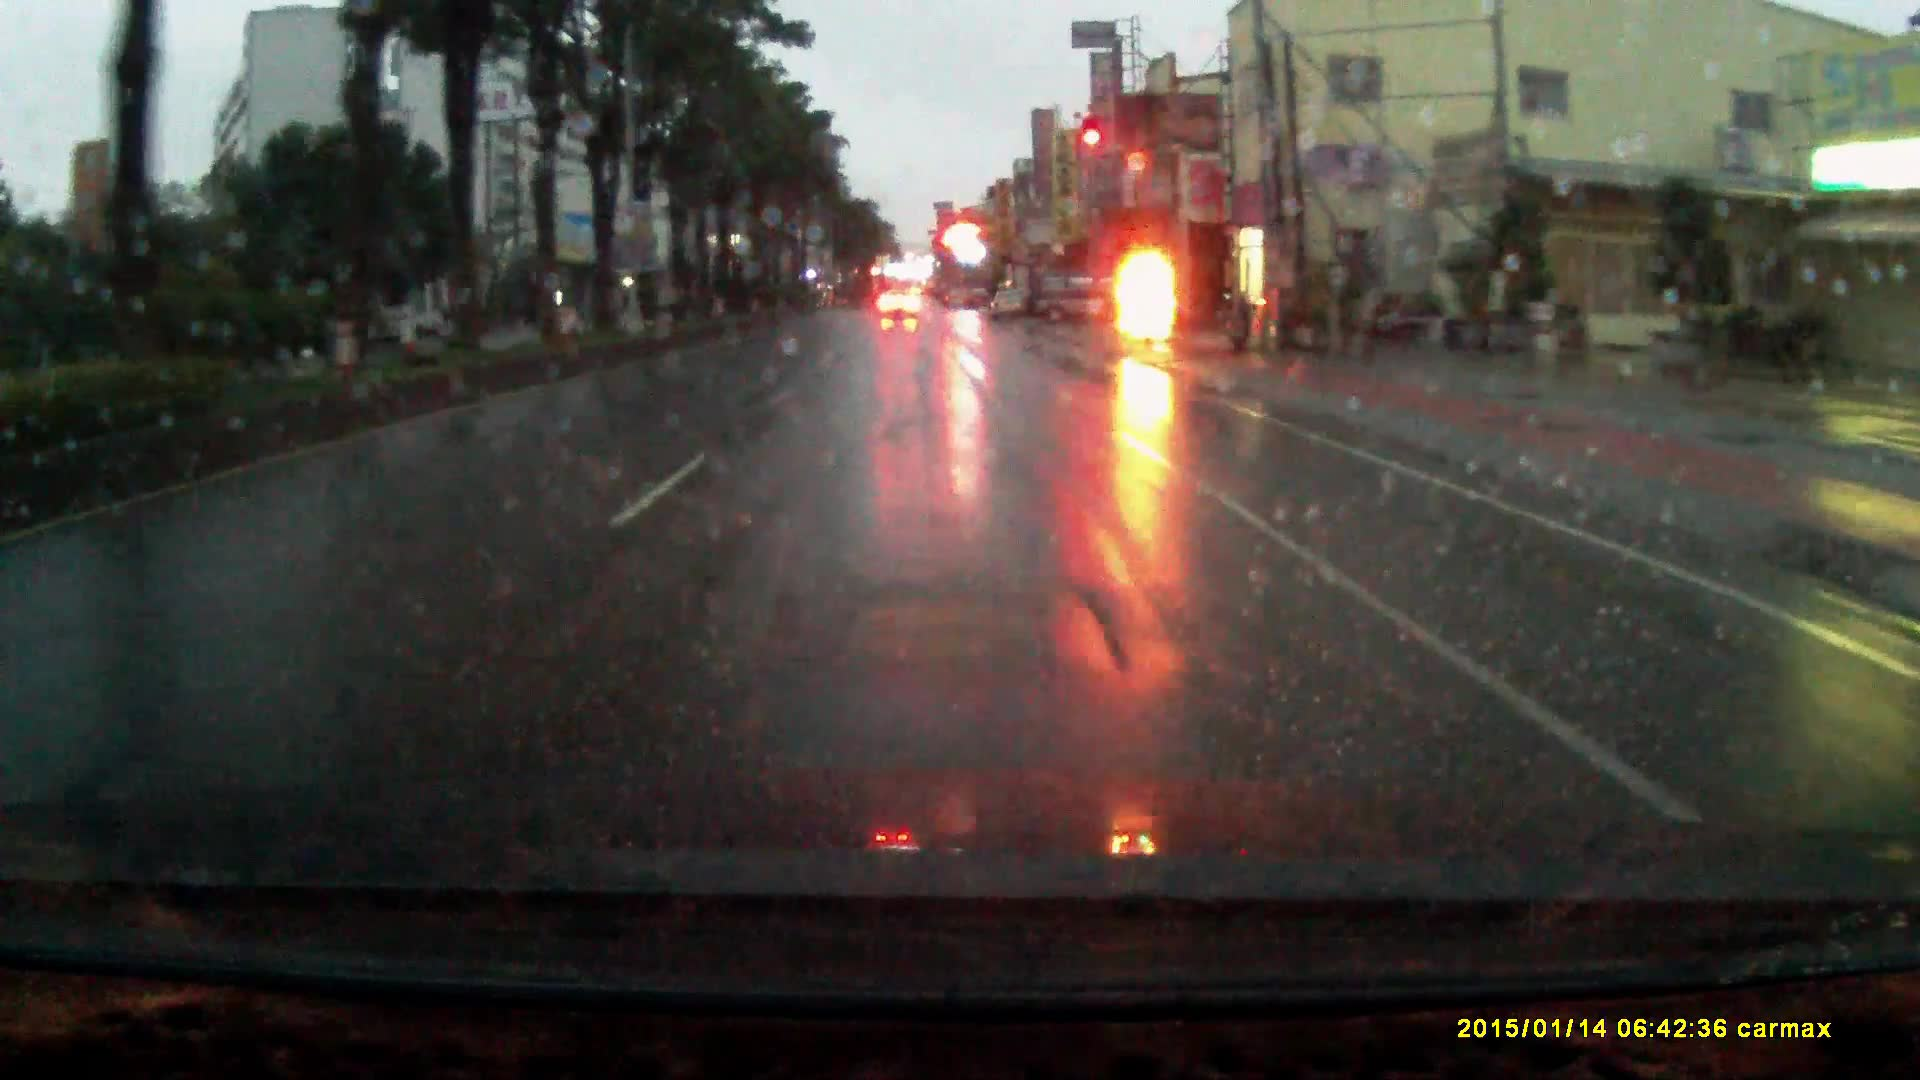vehicle: (1036, 270, 1133, 326), (880, 291, 924, 324)
